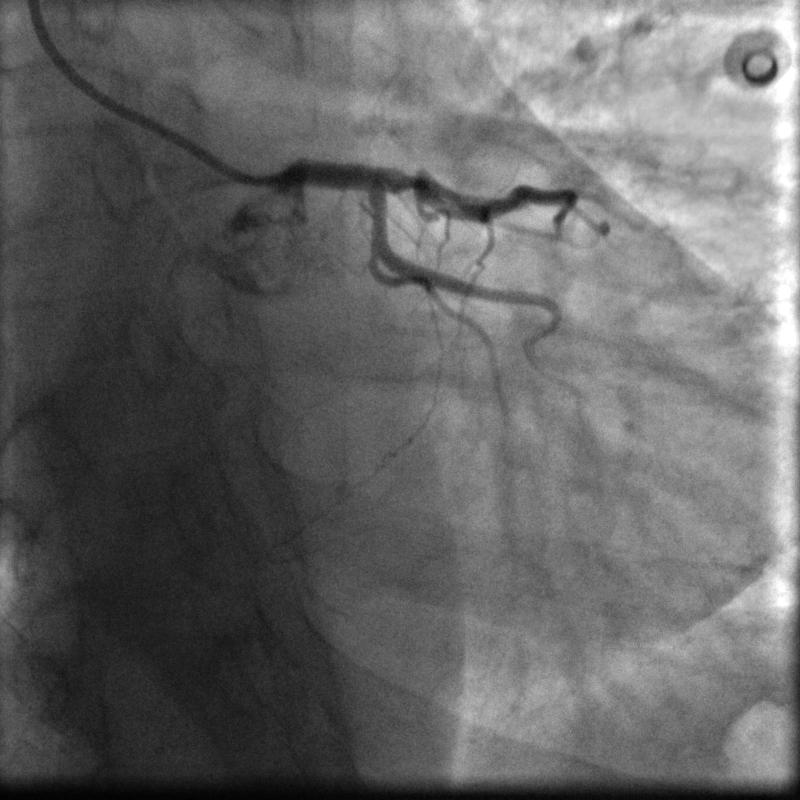Stenosis: (400, 164, 420, 194)
